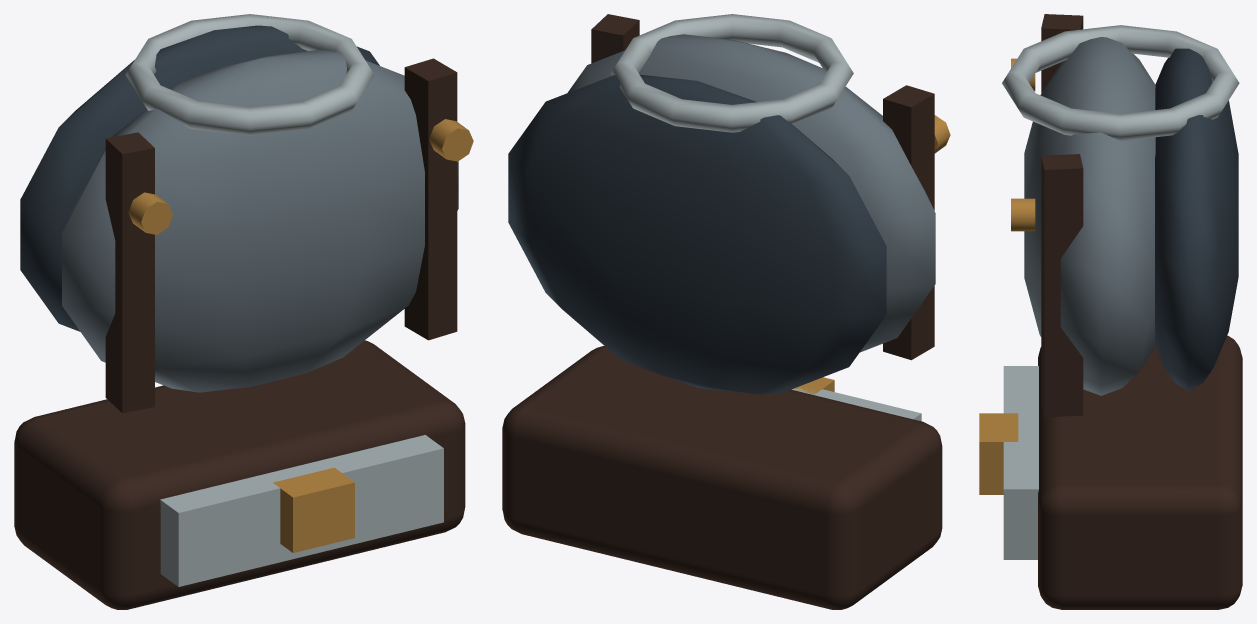
Rendered from armor-breastplate.glb.
The picture shows the model from 3 angles, left to right: view 1: azimuth 30°, elevation 25°; view 2: azimuth 150°, elevation 25°; view 3: azimuth 270°, elevation 25°; orthographic projection. The views are drawn at different scales.
Parts seen in each view (by area): view 1: breastplate-front, breastplate-waist-strap, breastplate-shoulder-strap (×2), breastplate-waist-plate, breastplate-back, breastplate-neck-ring, breastplate-waist-buckle, breastplate-strap-rivet (×2); view 2: breastplate-back, breastplate-waist-strap, breastplate-front, breastplate-neck-ring, breastplate-shoulder-strap (×2), breastplate-waist-plate; view 3: breastplate-waist-strap, breastplate-front, breastplate-back, breastplate-neck-ring, breastplate-shoulder-strap (×2), breastplate-waist-plate, breastplate-waist-buckle, breastplate-strap-rivet.
Boxes of the visible parts, x1,y1,x2,y2 form: breastplate-front: (62, 49, 458, 392); breastplate-waist-strap: (14, 340, 465, 609); breastplate-shoulder-strap (×2): (105, 58, 457, 413); breastplate-waist-plate: (160, 435, 443, 586); breastplate-back: (20, 25, 379, 331); breastplate-neck-ring: (125, 14, 374, 135); breastplate-waist-buckle: (273, 467, 354, 552); breastplate-strap-rivet (×2): (128, 119, 473, 234); breastplate-back: (508, 74, 886, 394); breastplate-waist-strap: (502, 346, 942, 609); breastplate-front: (567, 34, 935, 352); breastplate-neck-ring: (611, 14, 853, 132); breastplate-shoulder-strap (×2): (591, 14, 934, 360); breastplate-waist-plate: (791, 387, 921, 421); breastplate-waist-strap: (1038, 335, 1242, 609); breastplate-front: (1024, 37, 1155, 395); breastplate-back: (1155, 48, 1238, 390); breastplate-neck-ring: (1002, 25, 1239, 141); breastplate-shoulder-strap (×2): (1041, 14, 1083, 417); breastplate-waist-plate: (1003, 366, 1038, 559); breastplate-waist-buckle: (979, 413, 1018, 494); breastplate-strap-rivet: (1011, 198, 1035, 231).
Bounding box in the file's own units: 0.4485 × 0.535 × 0.27.
